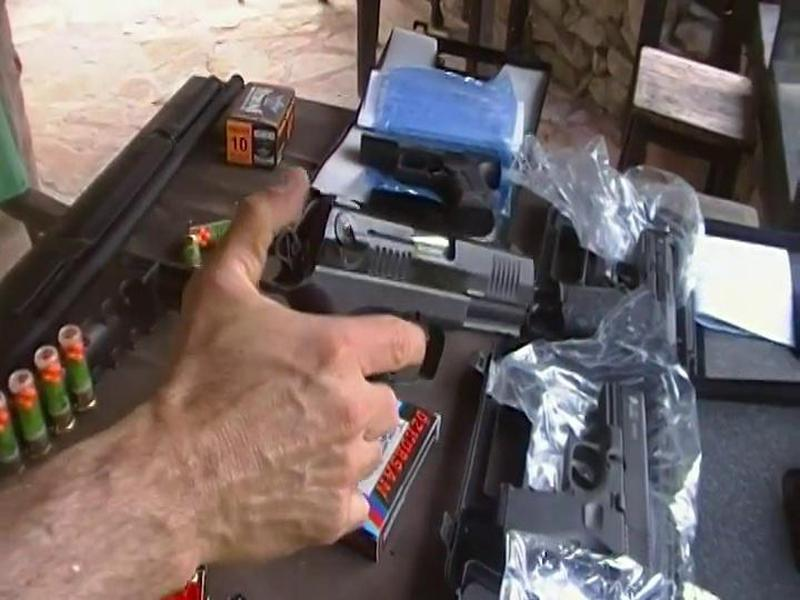Pistola: (224, 176, 575, 429)
